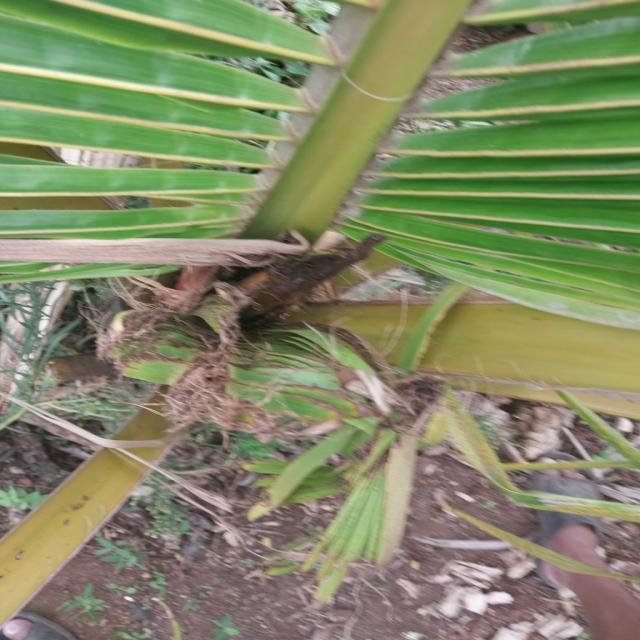bud rot: (100, 239, 392, 428)
